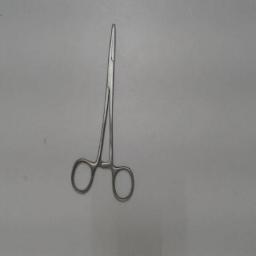Mayo Needle Holder: (66, 18, 138, 208)
